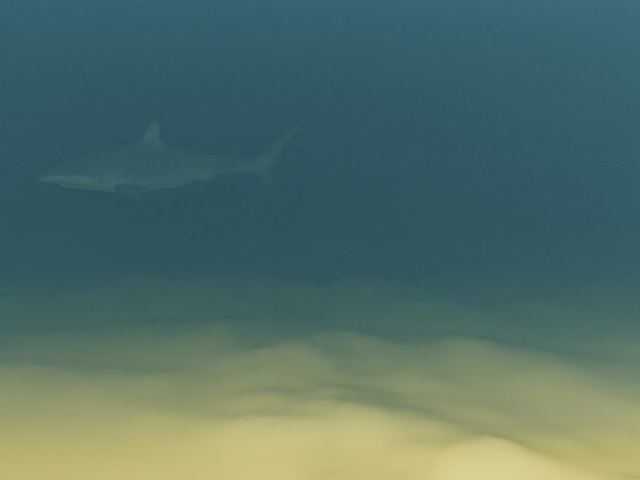Carribean Shark.001: (36, 116, 308, 203)
